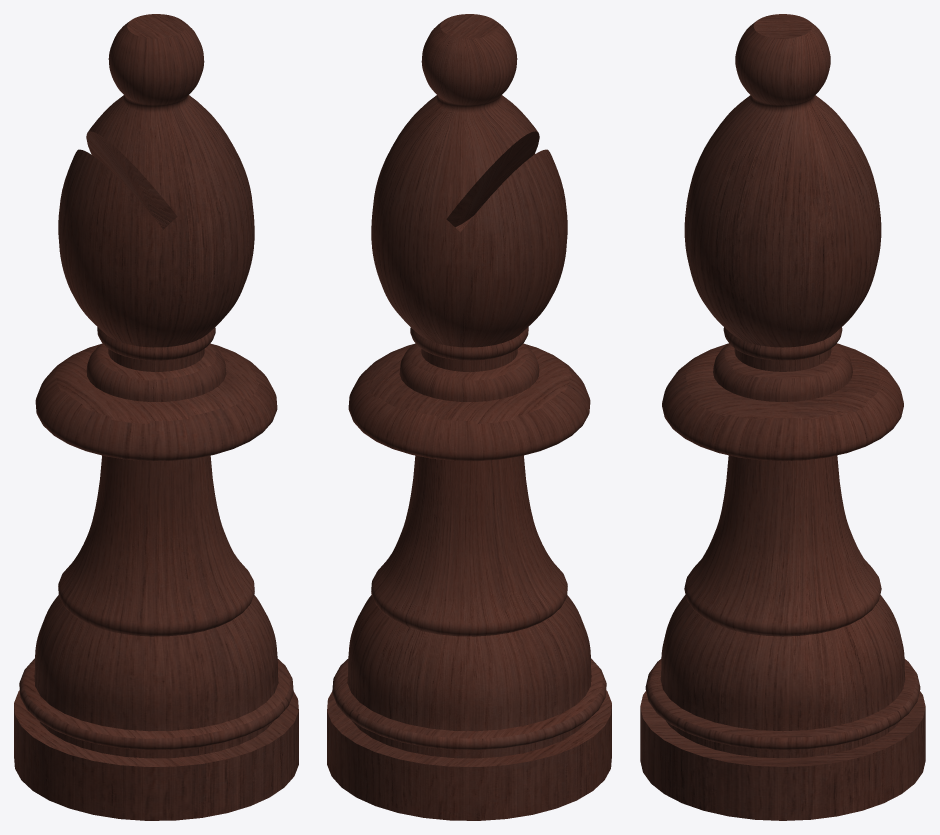
The model's file is black-bishop.glb.
3 renders of one model, left to right at view 1: azimuth 30°, elevation 25°; view 2: azimuth 150°, elevation 25°; view 3: azimuth 270°, elevation 25°, orthographic.
Visible parts, largest first — view 1: ScacchiBianchi_Alfiere.004_Material #50_0; view 2: ScacchiBianchi_Alfiere.004_Material #50_0; view 3: ScacchiBianchi_Alfiere.004_Material #50_0.
Part boxes in pixels (box(x1,y1,x2,y2)): ScacchiBianchi_Alfiere.004_Material #50_0: box(14, 14, 298, 820); ScacchiBianchi_Alfiere.004_Material #50_0: box(327, 14, 611, 820); ScacchiBianchi_Alfiere.004_Material #50_0: box(640, 14, 925, 820).
Bounding box in the file's own units: 3 × 8.51 × 3.
1 material, 1 textured.
